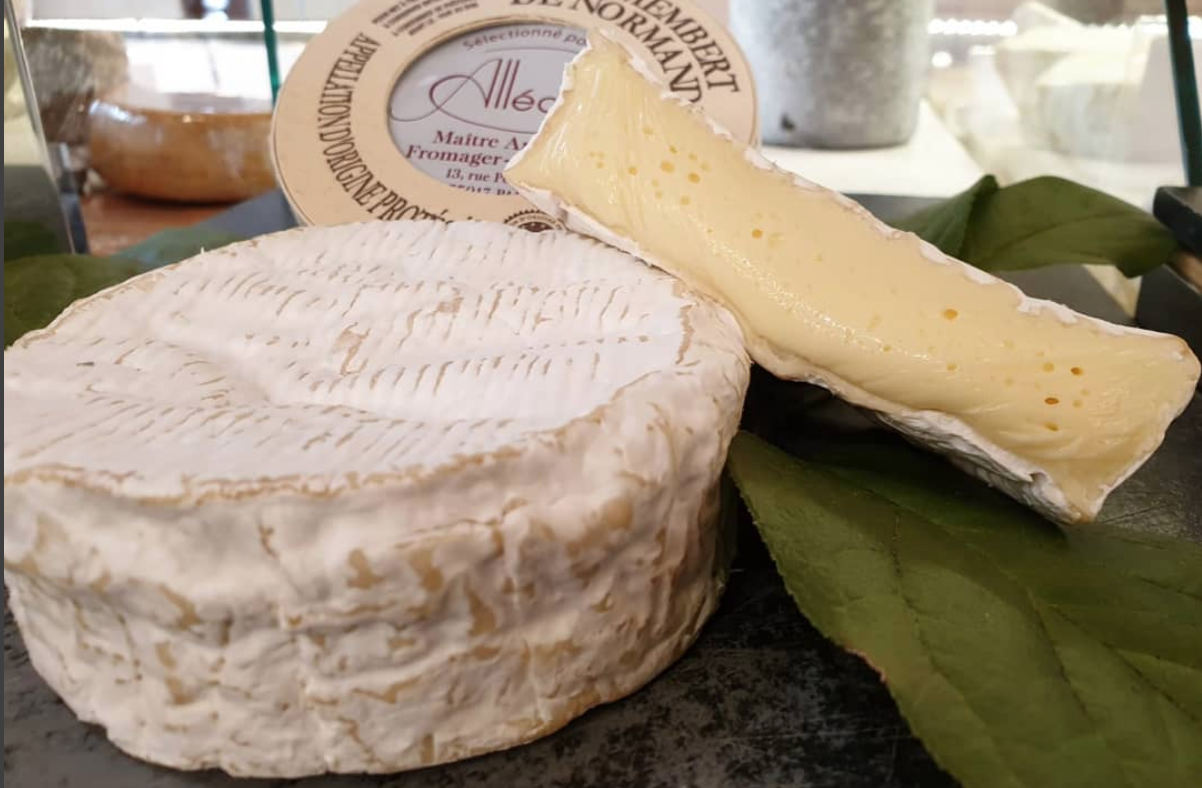camembert: (6, 215, 754, 779), (502, 25, 1196, 530)
